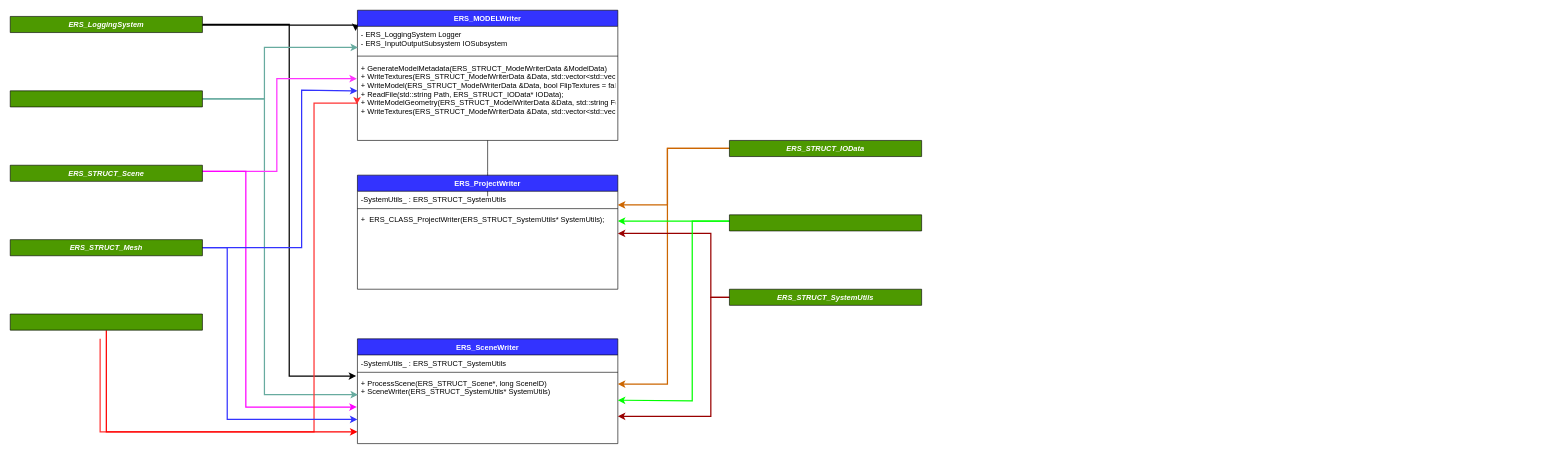
Some shapes in this 1557 by 454 pixel diagram are drawn without their labels. Each missing label, with the centre of its shape:
"ERS_STRUCT_Model" belongs at [106,98].
"ERS_STRUCT_Project" belongs at [825,222].
"ERS_STRUCT_Texture" belongs at [106,321].
